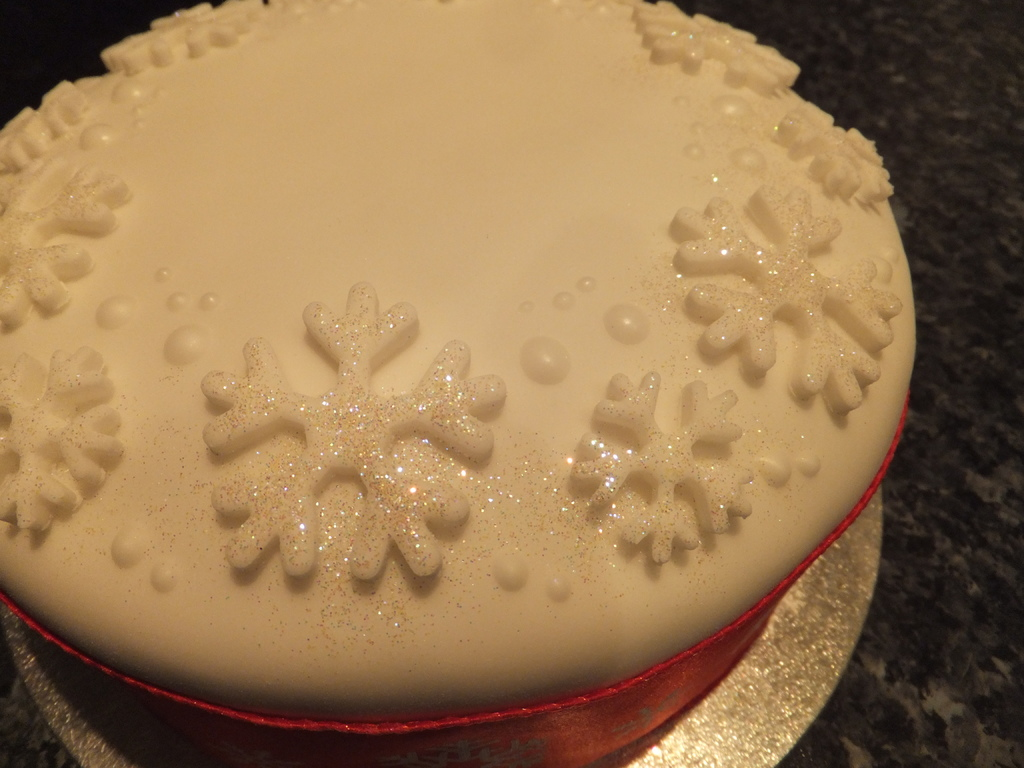cake: (0, 0, 915, 767)
